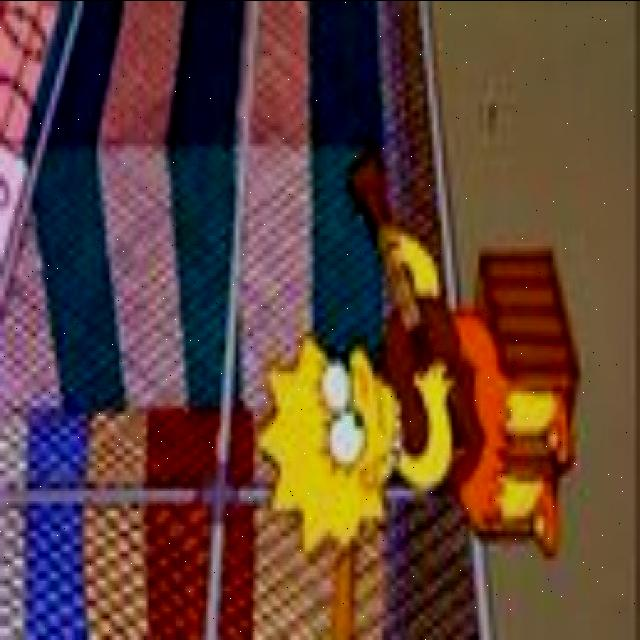Lisa Simpson: (256, 338, 412, 558)
